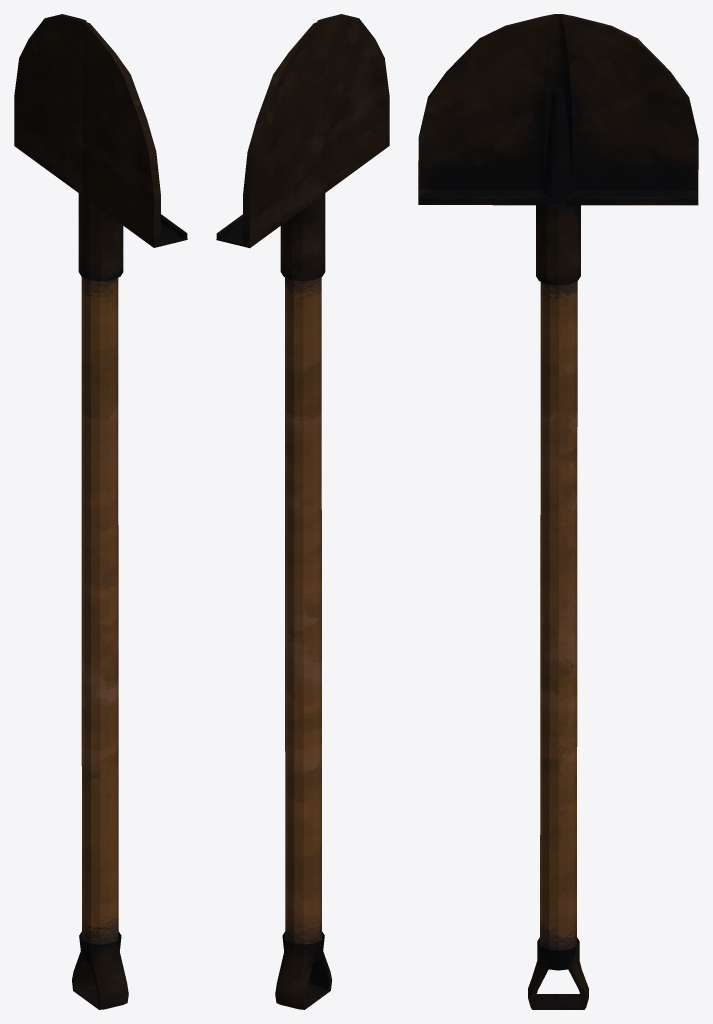
3 renders of one model, left to right at view 1: azimuth 30°, elevation 25°; view 2: azimuth 150°, elevation 25°; view 3: azimuth 270°, elevation 25°, orthographic.
Visible parts, largest first — view 1: Pá; view 2: Pá; view 3: Pá.
Part boxes in pixels (box(x1,y1,x2,y2)): Pá: box(14, 14, 187, 1009); Pá: box(216, 14, 389, 1009); Pá: box(418, 14, 698, 1009).
Bounding box in the file's own units: 5.42 × 131 × 33.78.
Materials: 1 (1 with a texture image).
